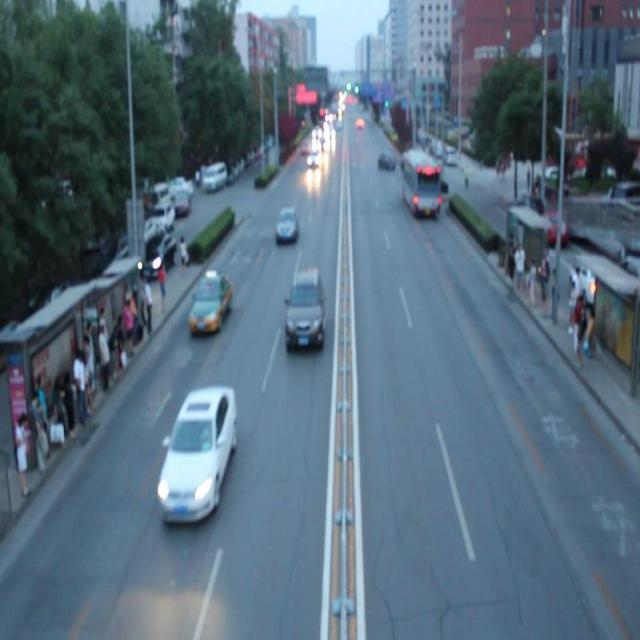car: (156, 386, 234, 524), (285, 270, 323, 348), (189, 270, 232, 334), (276, 208, 297, 241), (376, 148, 396, 173), (307, 151, 319, 168)
van: (400, 151, 440, 212)
